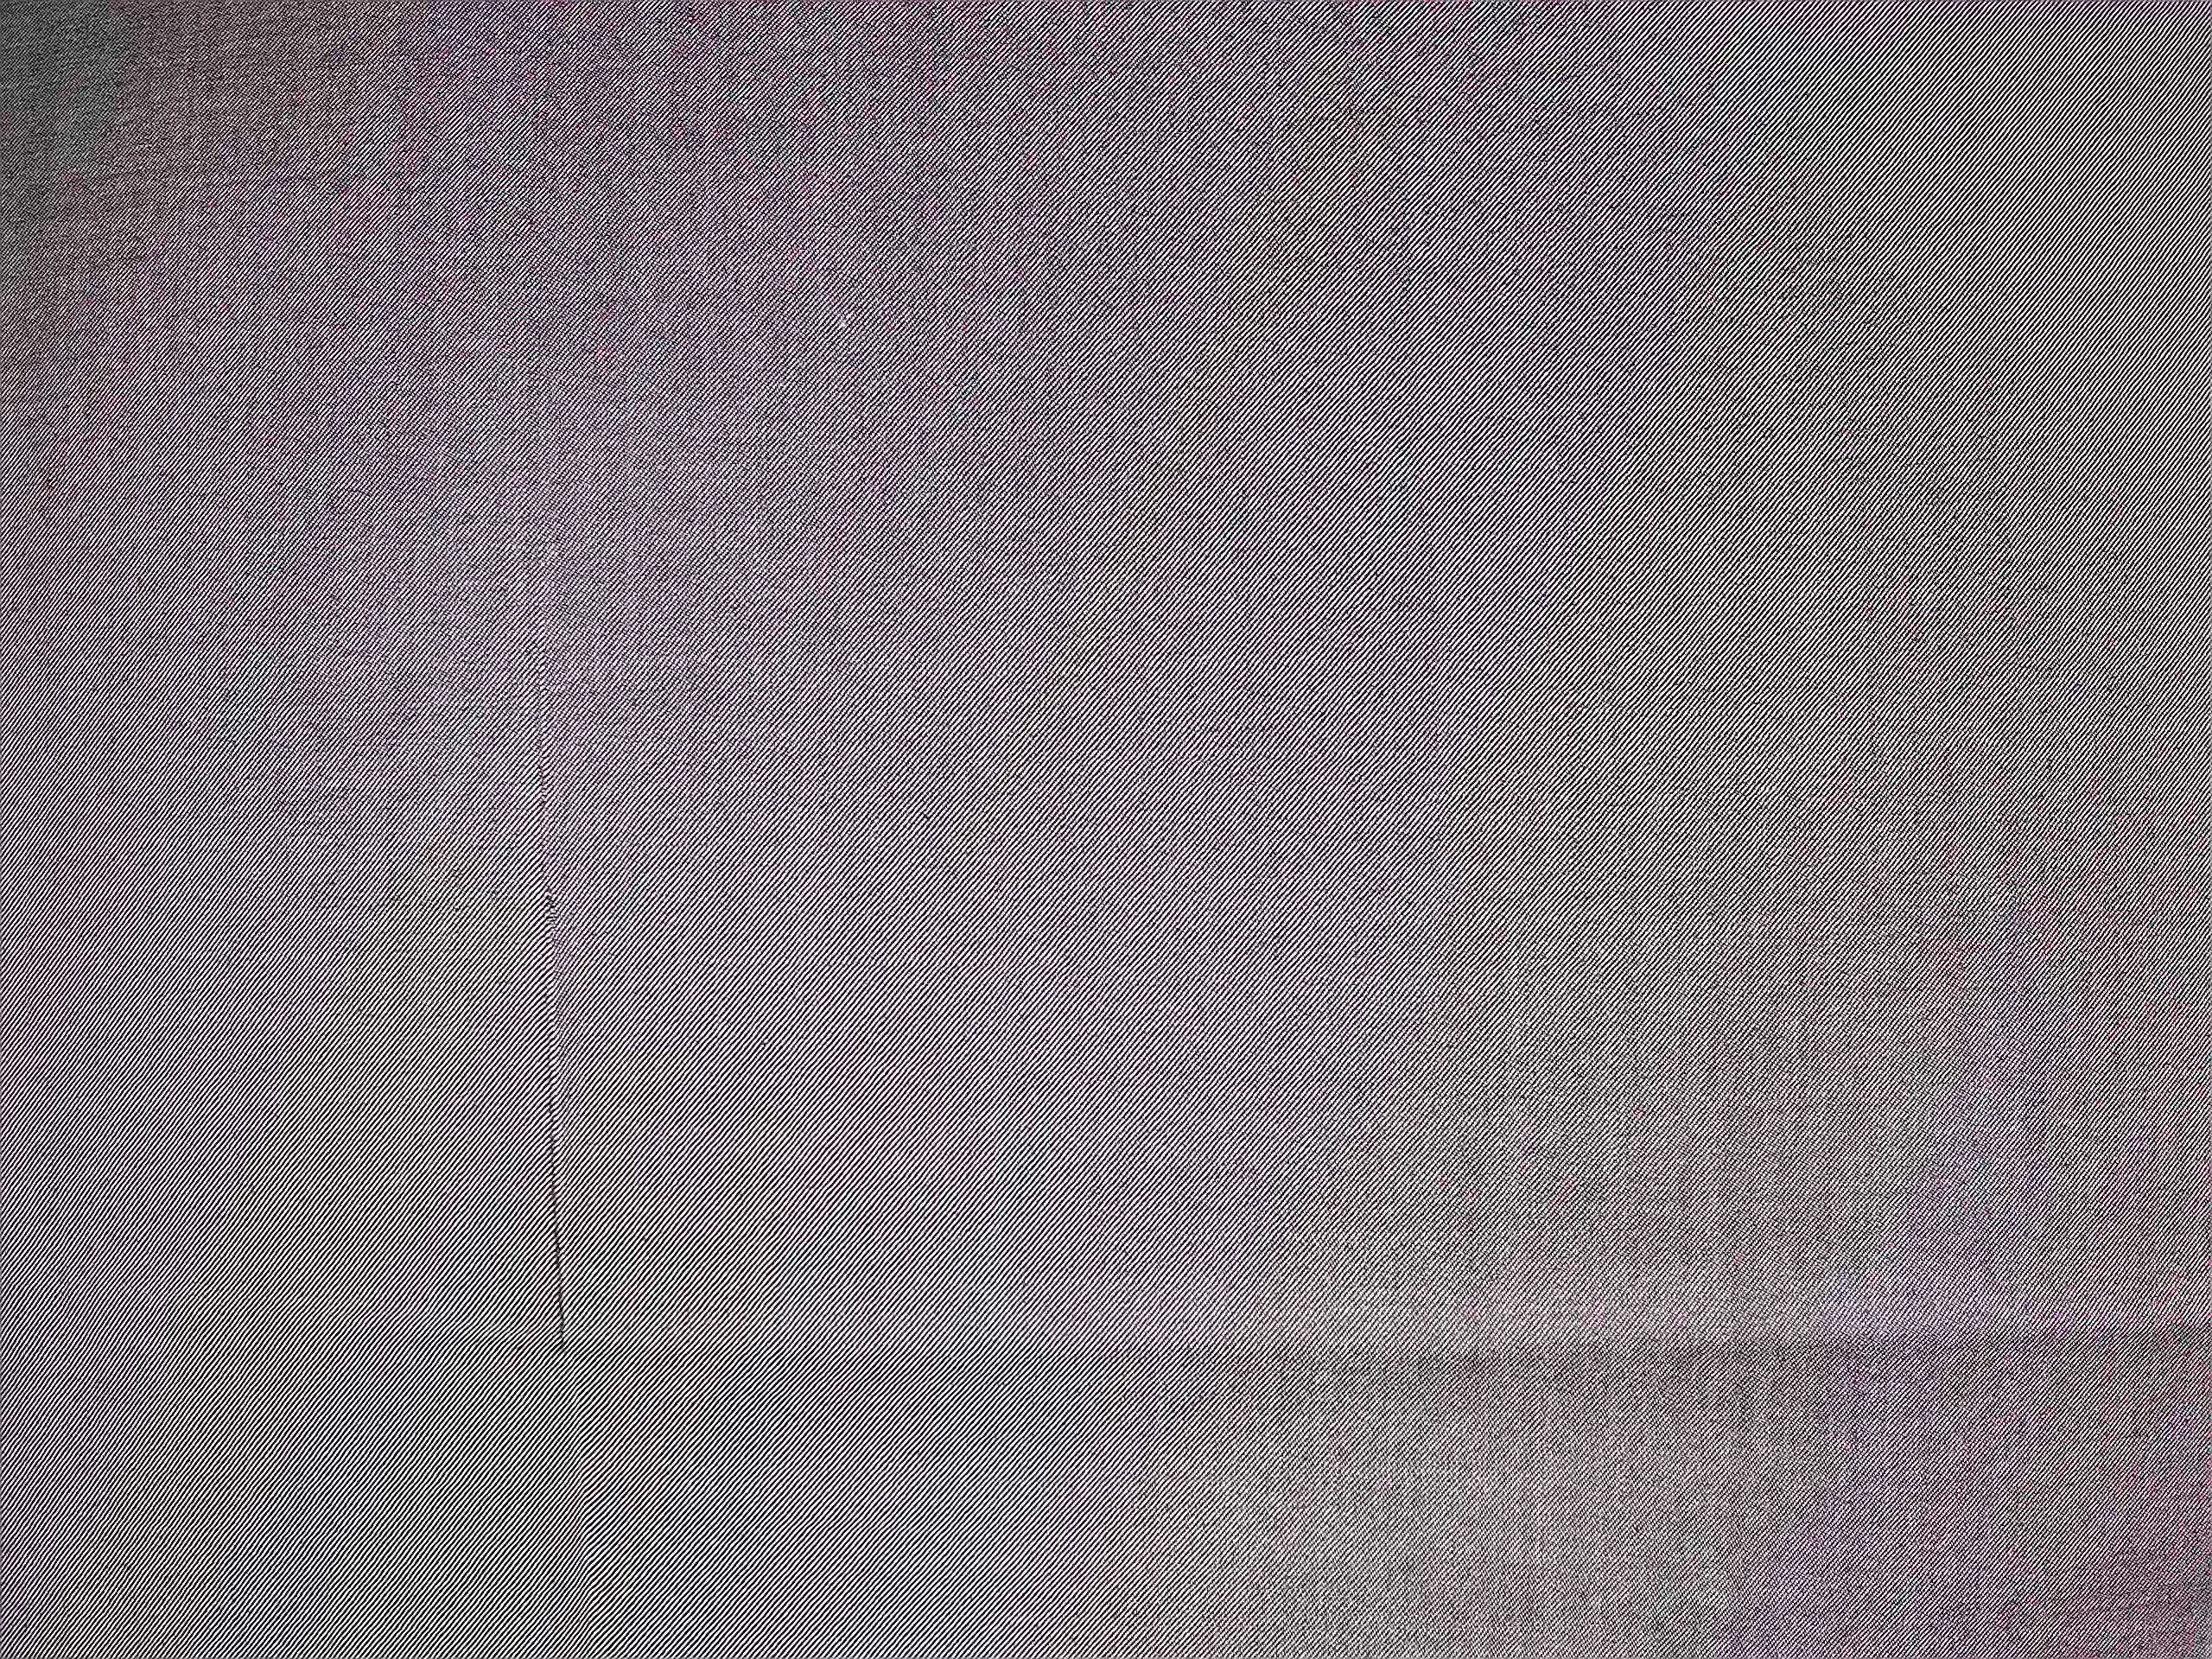hanging-warp: (526, 626, 599, 1595)
